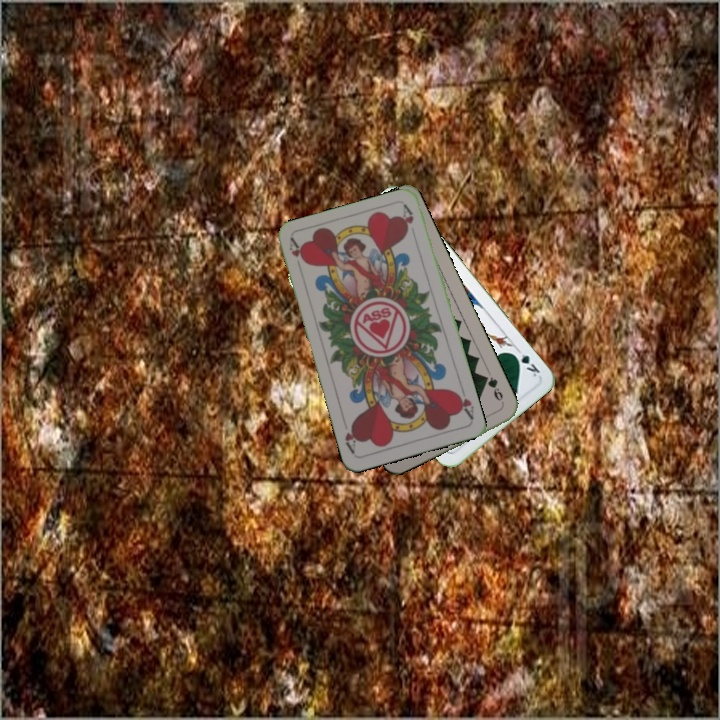G9: (479, 372, 507, 408)
GK: (508, 344, 543, 379)
HA: (451, 382, 476, 422), (285, 235, 309, 275)
